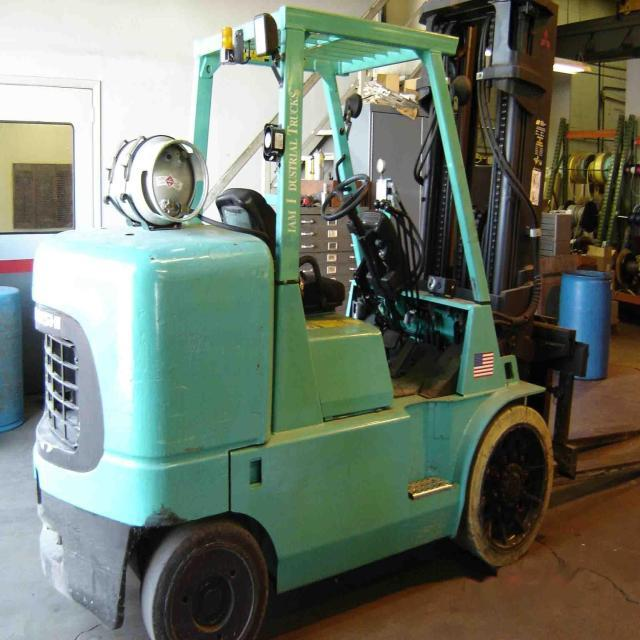forklift: (31, 3, 564, 640)
